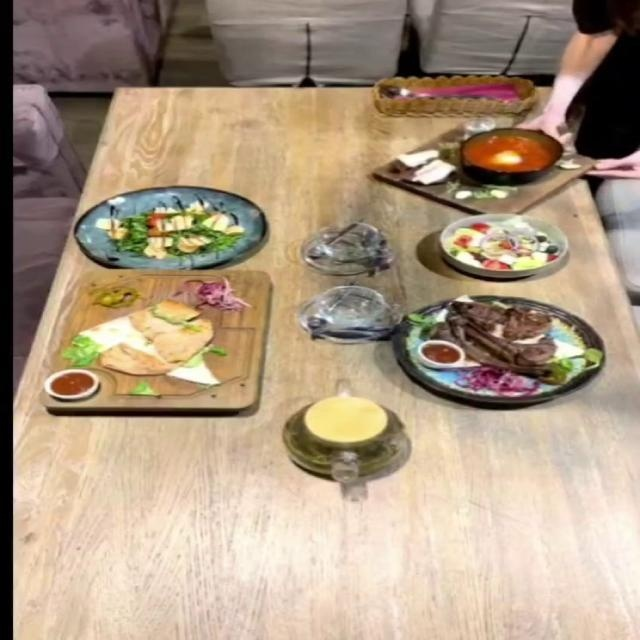meat: (37, 274, 276, 418), (390, 295, 606, 404)
salad: (71, 186, 265, 269), (438, 212, 570, 277)
soup: (370, 118, 597, 214)
tea: (280, 393, 409, 482)
